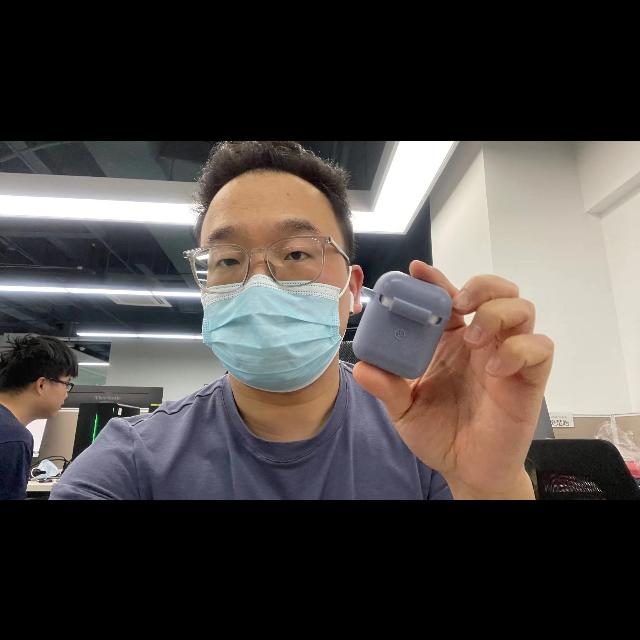airpods: (350, 271, 453, 379)
